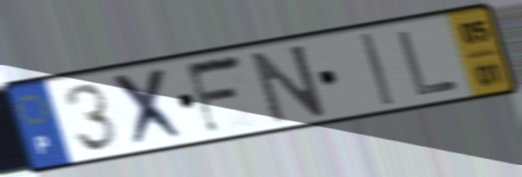3: (61, 82, 121, 152)
F: (182, 51, 248, 139)
I: (357, 30, 397, 109)
L: (394, 28, 463, 100)
N: (247, 41, 331, 127)
X: (108, 63, 192, 152)
